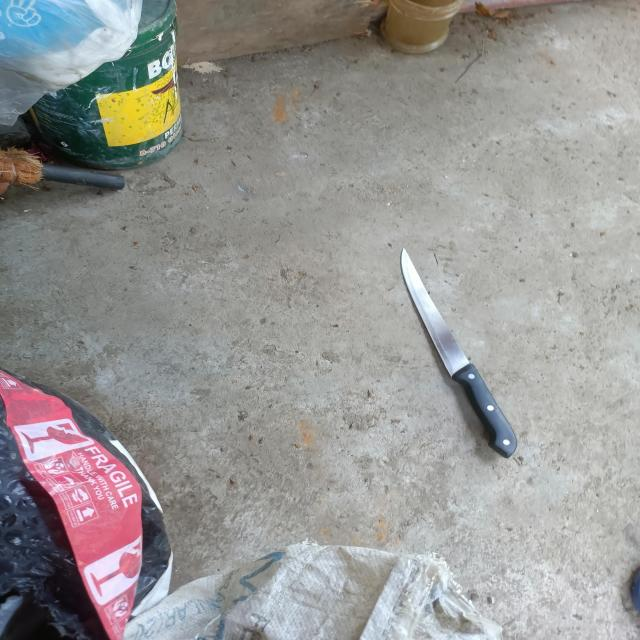knife: (400, 248, 516, 460)
